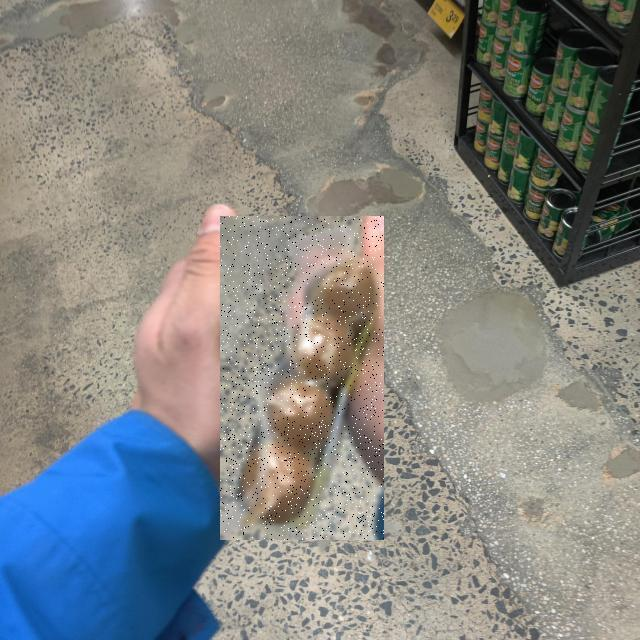Meat: (221, 216, 385, 540)
